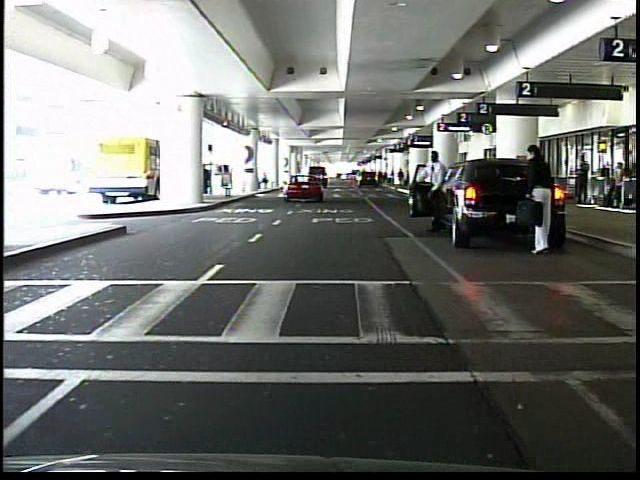person: (522, 145, 562, 260), (423, 151, 448, 239), (575, 156, 588, 205), (396, 167, 406, 189)
